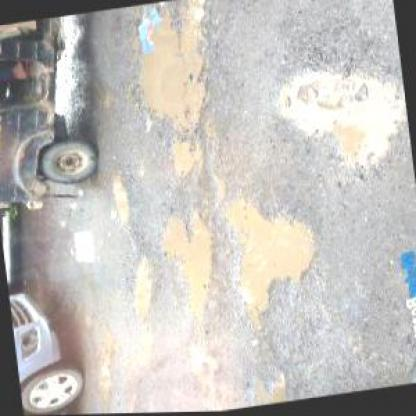pothole: (260, 50, 410, 186), (215, 184, 327, 319), (154, 206, 222, 326), (122, 258, 158, 322), (162, 133, 205, 180), (245, 368, 294, 406), (106, 172, 134, 229)
